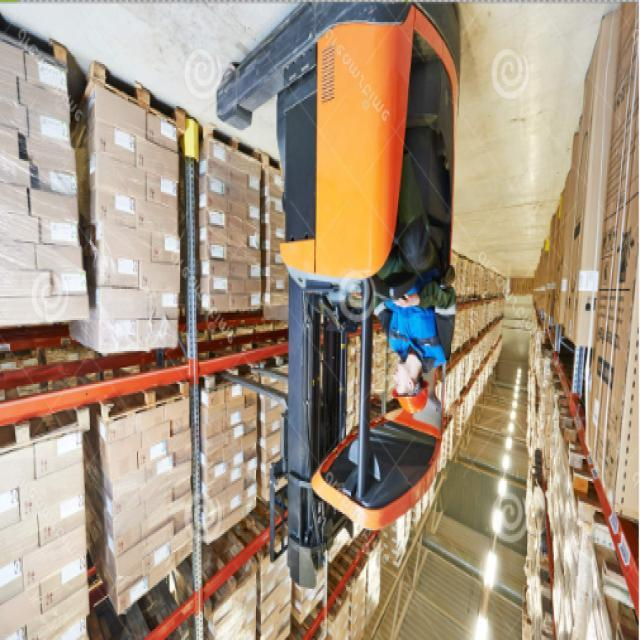hard_hat: (387, 359, 431, 414)
